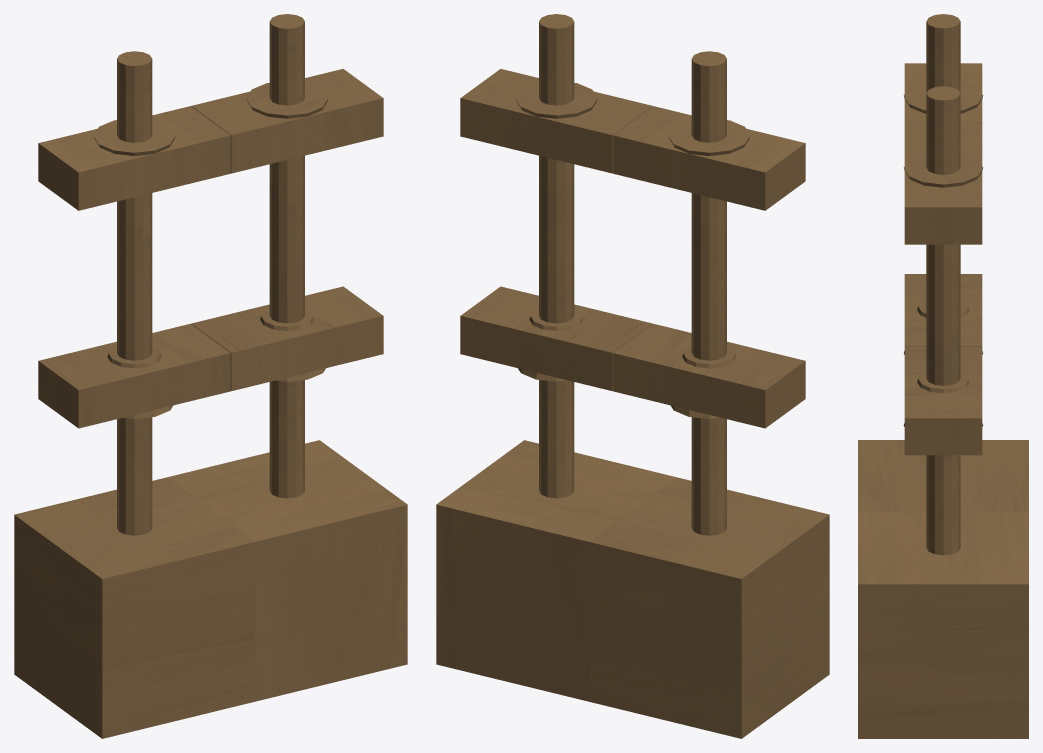
File: Railingx2.glb
The picture shows the model from 3 angles, left to right: view 1: azimuth 30°, elevation 25°; view 2: azimuth 150°, elevation 25°; view 3: azimuth 270°, elevation 25°; orthographic projection. The views are drawn at different scales.
Parts seen in each view (by area): view 1: Railingx2; view 2: Railingx2; view 3: Railingx2.
Boxes of the visible parts, bbox=[...] form: Railingx2: bbox=[14, 14, 407, 738]; Railingx2: bbox=[436, 14, 829, 738]; Railingx2: bbox=[858, 14, 1028, 738].
Bounding box in the file's own units: 4 × 7.88 × 2.
Materials: 1 (1 with a texture image).
